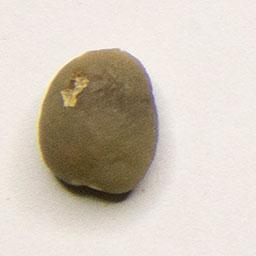peaberry: (33, 43, 163, 200)
